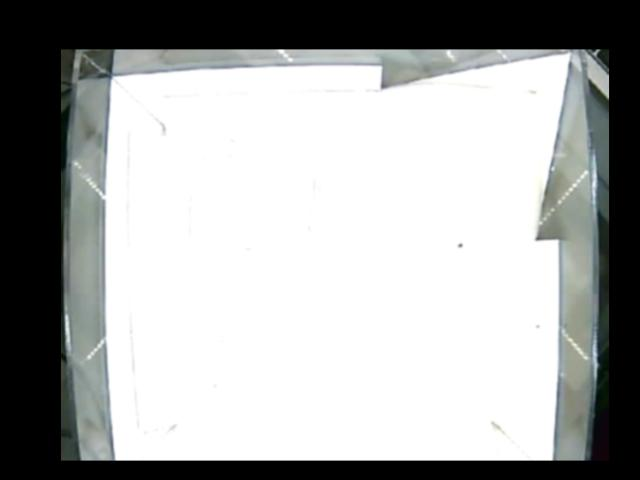Bottle: (186, 175, 364, 266)
